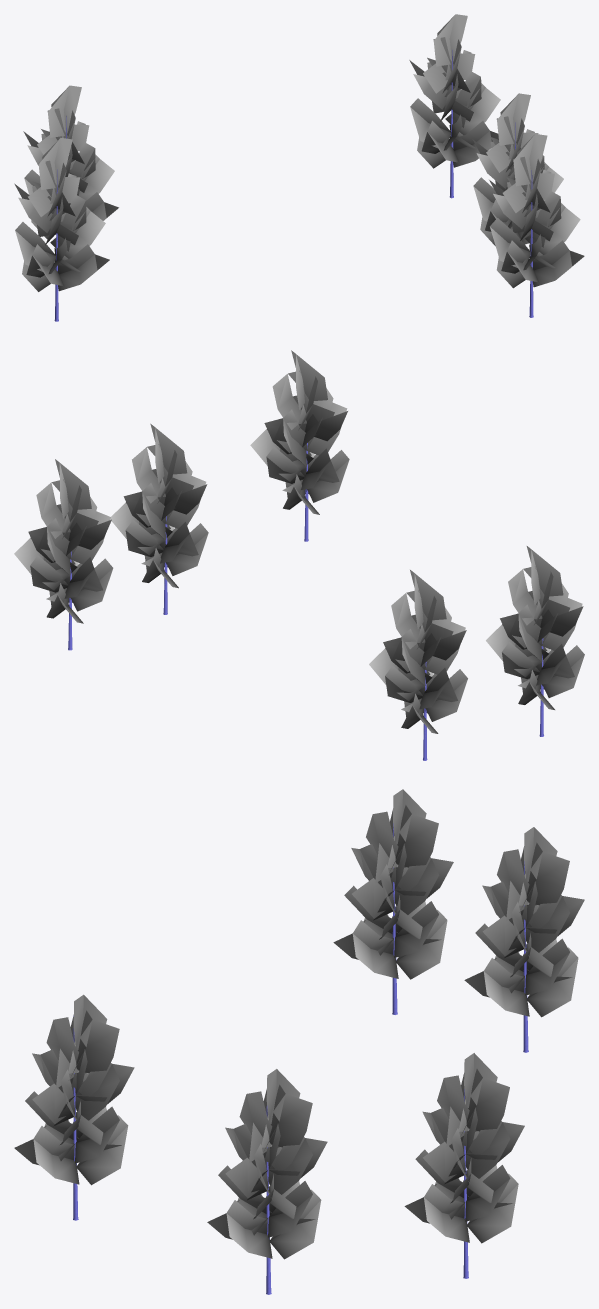
Rendered from trees ce.fbx.
3 views of the same model, one above another, from view 1: azimuth 30°, elevation 25°; view 2: azimuth 150°, elevation 25°; view 3: azimuth 270°, elevation 25° (orthographic). The views are drawn at different scales.
Visible parts, largest first — view 1: tree1__1_, tree1__4_, tree1__2_, tree1__3_, tree1; view 2: tree1__1_, tree1__2_, tree1__3_, tree1__4_, tree1; view 3: tree1__3_, tree1__4_, tree1, tree1__1_, tree1__2_.
Boxes of the visible parts, x1=… form: tree1__1_: x1=489, y1=134, x2=584, y2=317; tree1__4_: x1=14, y1=137, x2=109, y2=321; tree1__2_: x1=409, y1=14, x2=500, y2=198; tree1__3_: x1=23, y1=85, x2=118, y2=239; tree1: x1=472, y1=93, x2=563, y2=245; tree1__1_: x1=250, y1=350, x2=349, y2=541; tree1__2_: x1=14, y1=459, x2=113, y2=650; tree1__3_: x1=369, y1=570, x2=467, y2=760; tree1__4_: x1=486, y1=546, x2=584, y2=736; tree1: x1=110, y1=423, x2=208, y2=614; tree1__3_: x1=464, y1=827, x2=584, y2=1052; tree1__4_: x1=333, y1=789, x2=453, y2=1014; tree1: x1=207, y1=1069, x2=327, y2=1294; tree1__1_: x1=14, y1=994, x2=134, y2=1220; tree1__2_: x1=404, y1=1053, x2=524, y2=1278.
Bounding box in the file's own units: 5776 × 2269 × 4407.
